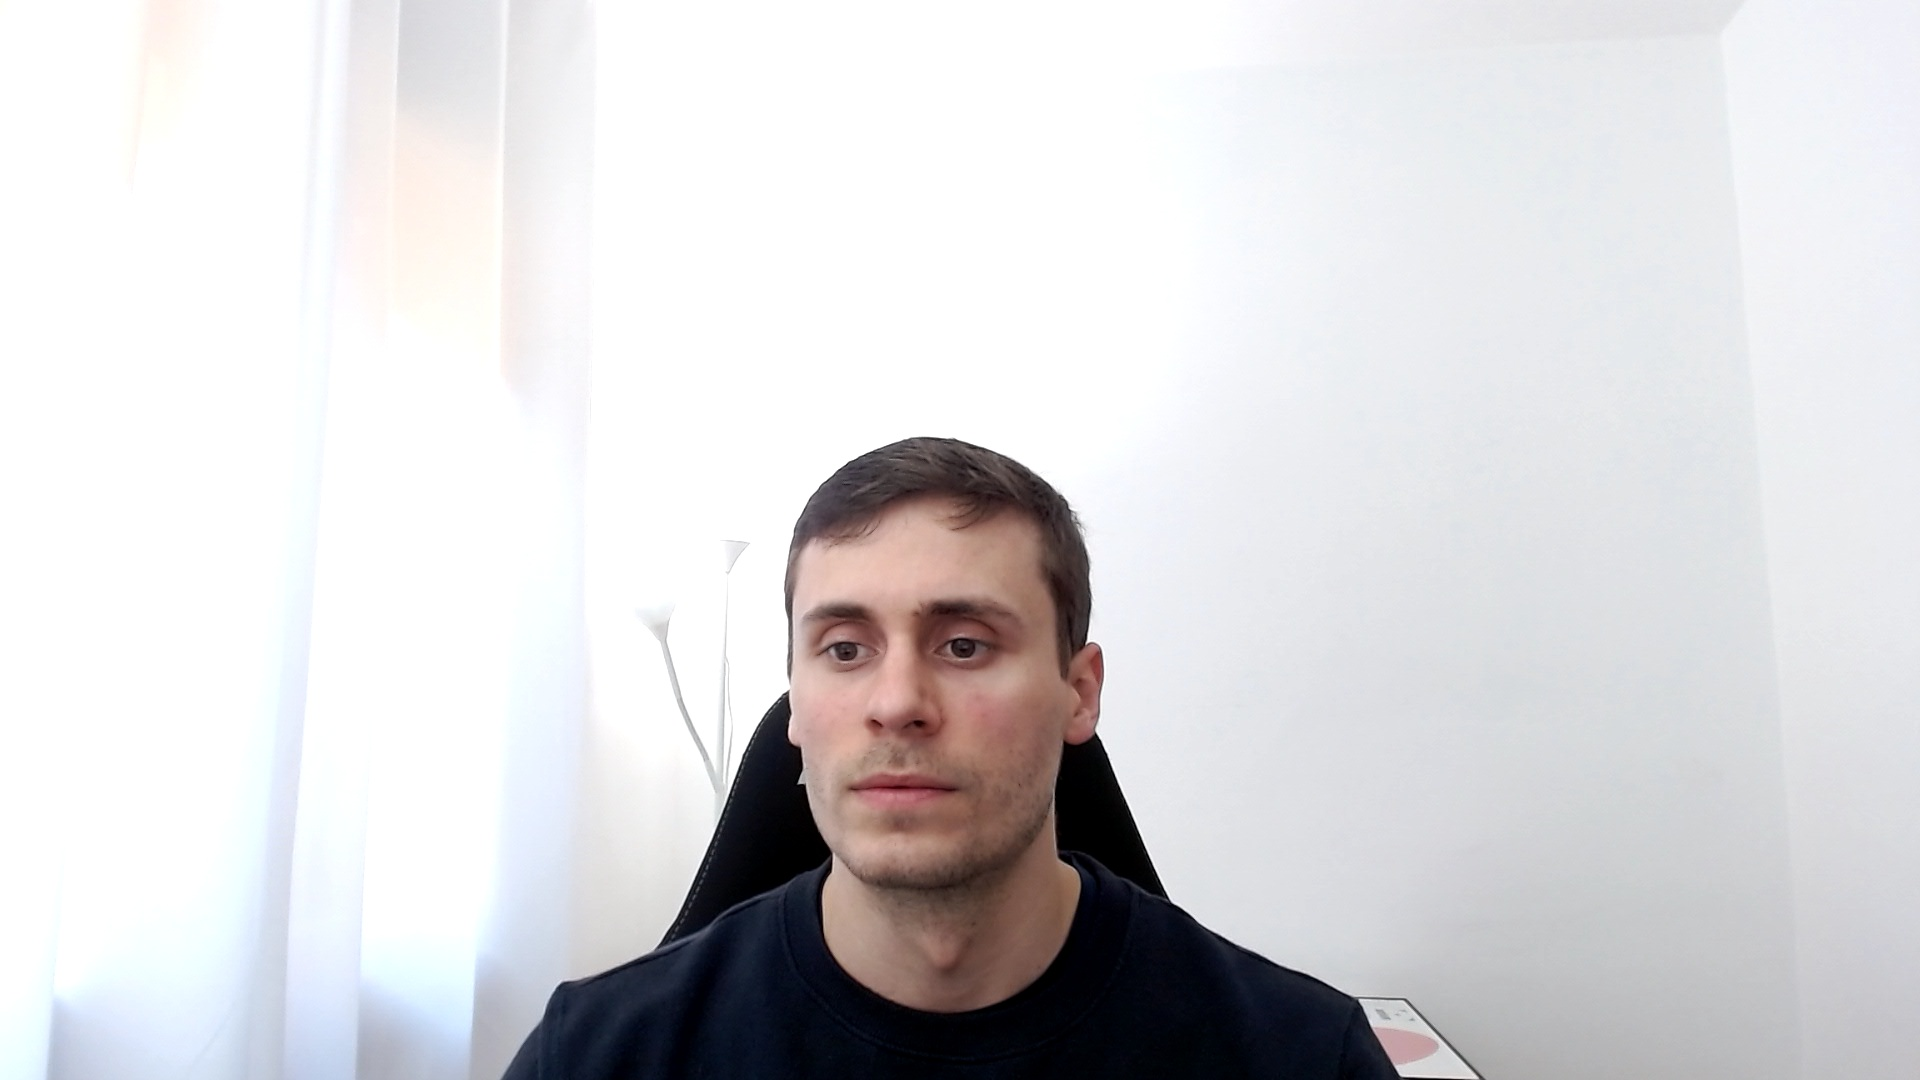No-mask: (783, 438, 1104, 887)
